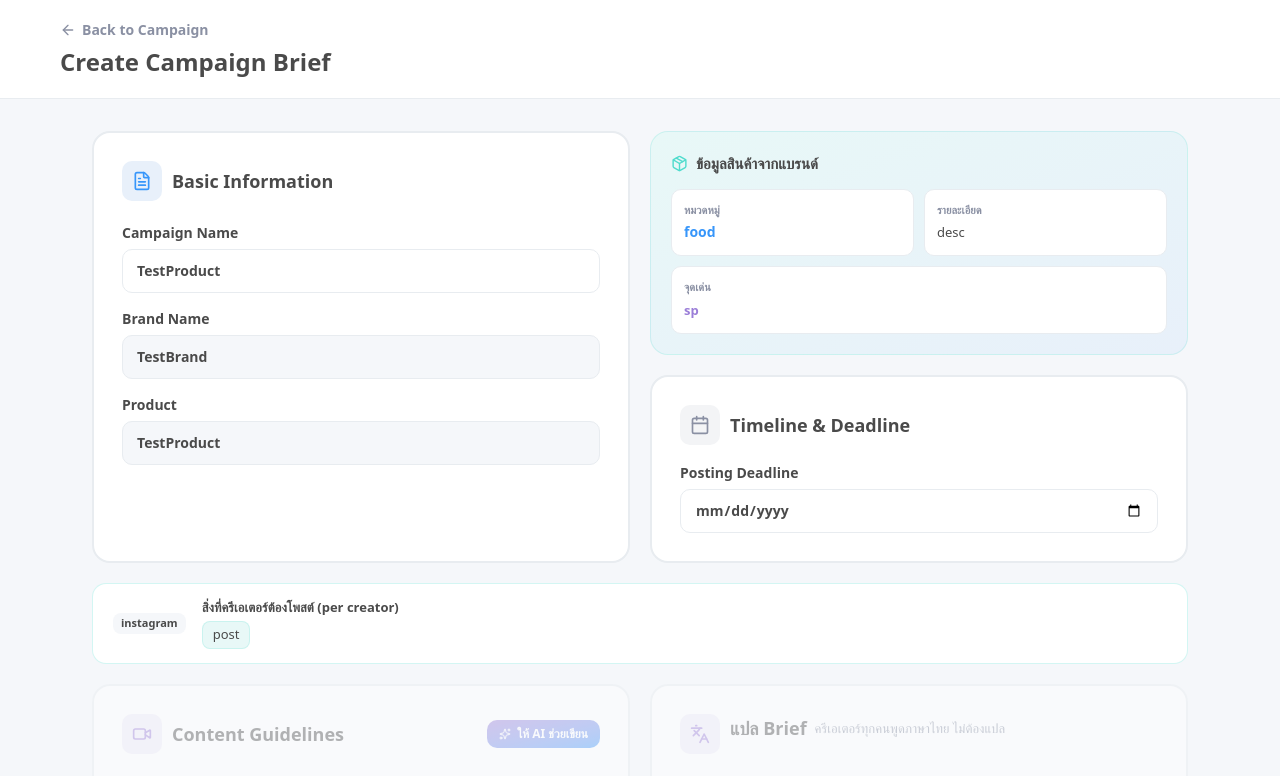
CreateBriefPage — AI prompt dialog › populates brief fields with AI response on success
Click the button "ให้ AI ช่วยเขียน".
click(544, 734)  # box [487, 720, 600, 748]
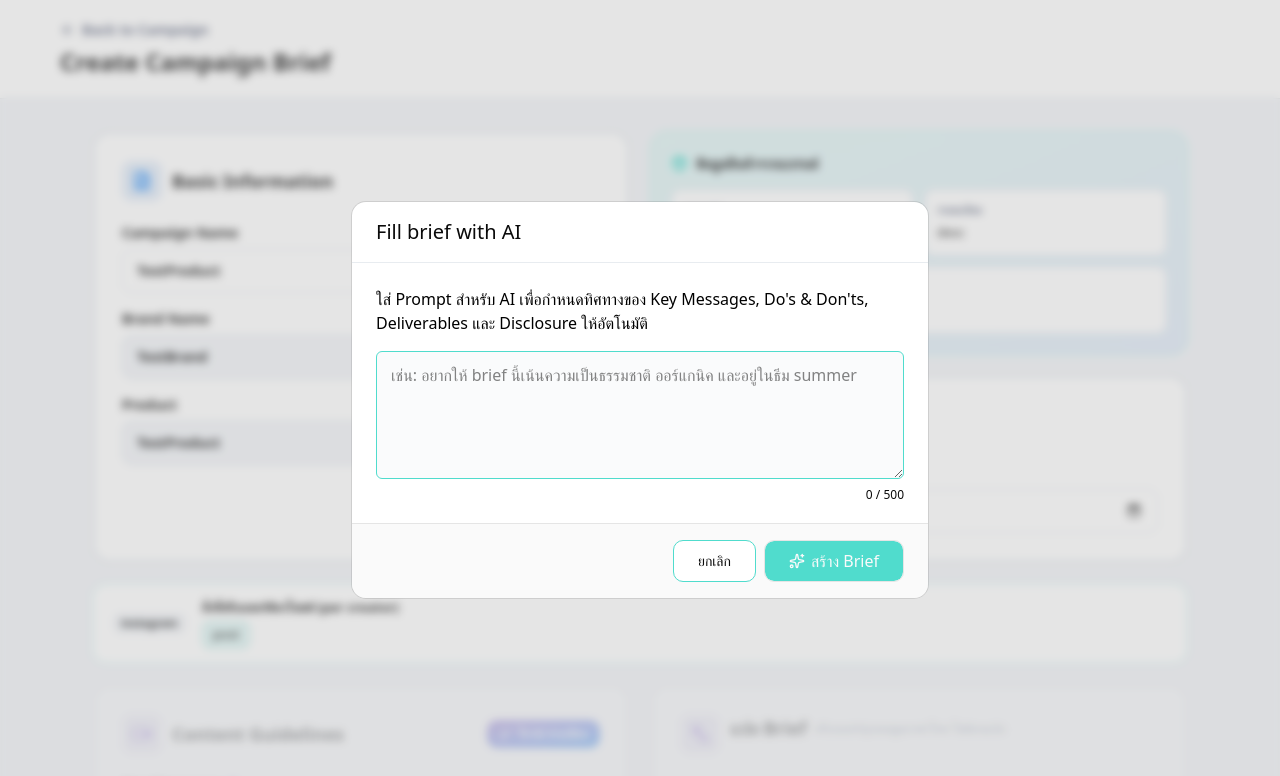
Result: the text "Fill brief with AI" is shown at [376, 218, 521, 245]
Click the button "สร้าง Brief".
click(834, 561)  # box [764, 540, 904, 582]
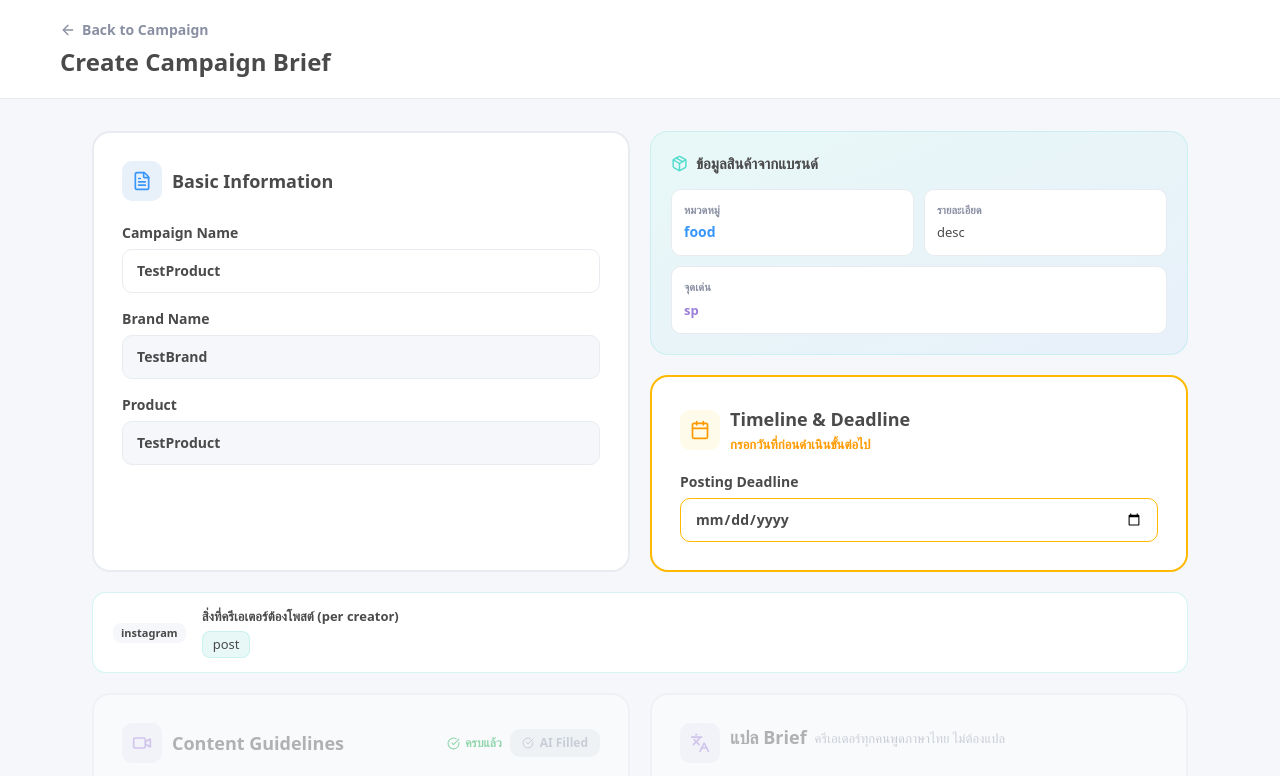
Result: the text "Fill brief with AI" is gone
